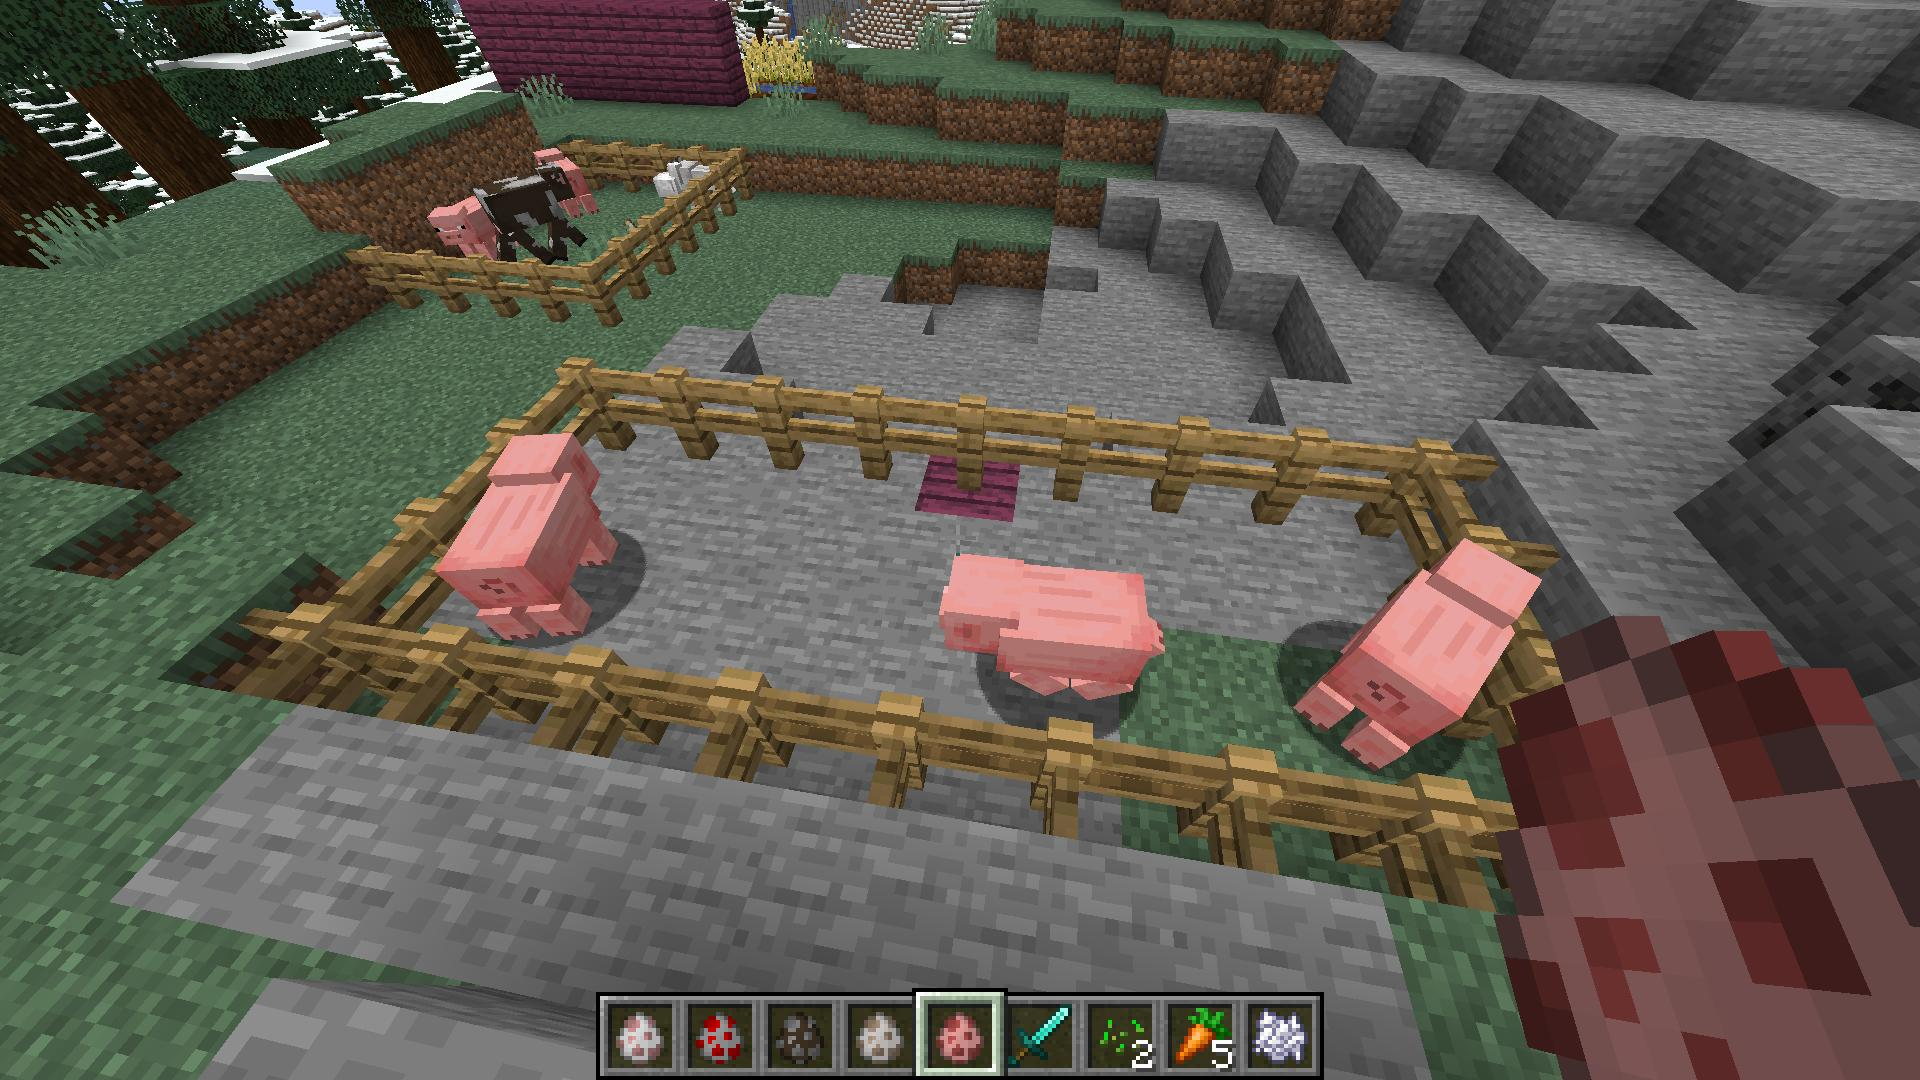pig: (1291, 530, 1545, 769), (426, 429, 624, 649), (934, 550, 1168, 712)
